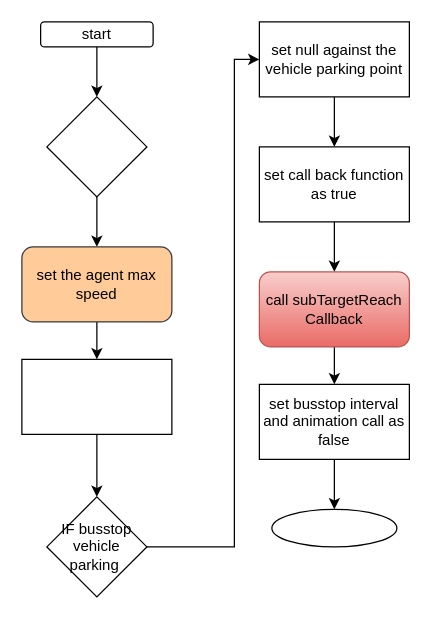
Some shapes in this 431 by 619 pixel diagram are drawn without their labels. Each missing label, with the centre of its shape:
"end" belongs at pixel 334 527.
"IF current point is busstop" belongs at pixel 96 146.
"remove the vehicle id into busstop array" belongs at pixel 96 396.
